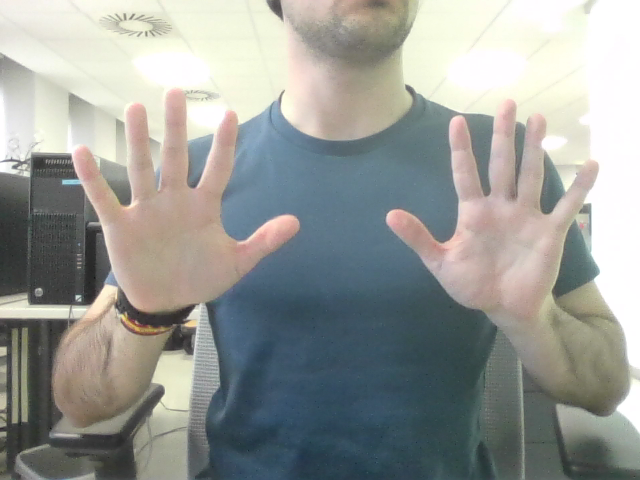Manos Arriba: (107, 109, 565, 284)
